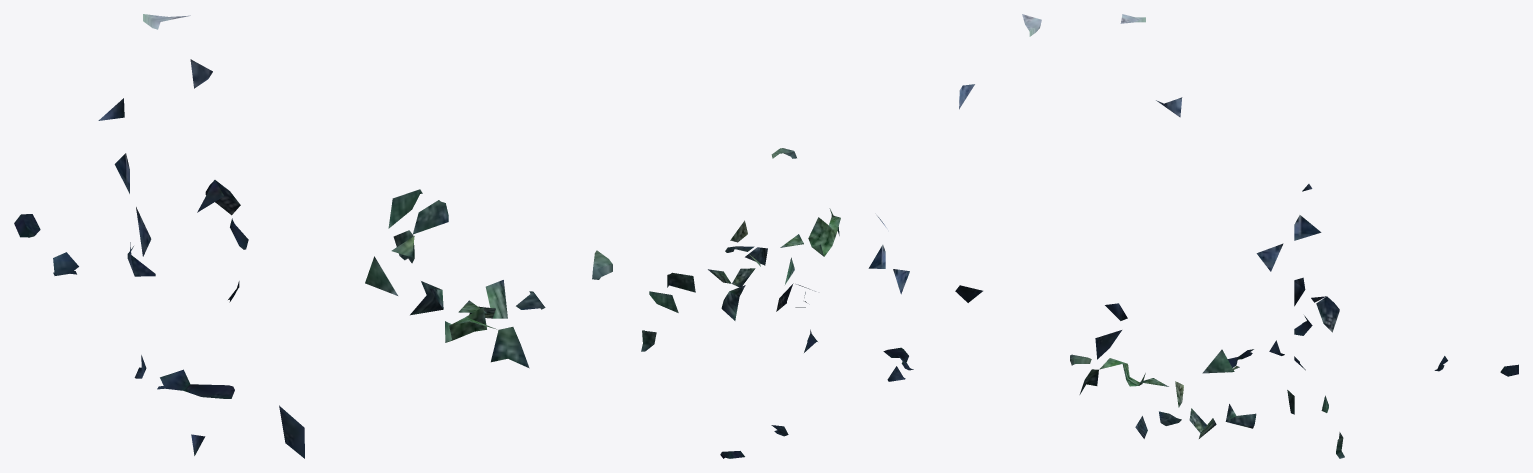
3 renders of one model, left to right at view 1: azimuth 30°, elevation 25°; view 2: azimuth 150°, elevation 25°; view 3: azimuth 270°, elevation 25°, orthographic. The views are drawn at different scales.
Parts seen in each view (by area): view 1: 30436272704361707727_1; view 2: 30436272704361707727_1; view 3: 30436272704361707727_1.
Boxes of the visible parts, x1,y1,x2,y2 form: 30436272704361707727_1: (14, 14, 612, 458); 30436272704361707727_1: (641, 14, 1041, 458); 30436272704361707727_1: (1070, 14, 1518, 458).
Bounding box in the file's own units: 27.31 × 29.11 × 38.26.
Materials: 1 (1 with a texture image).
